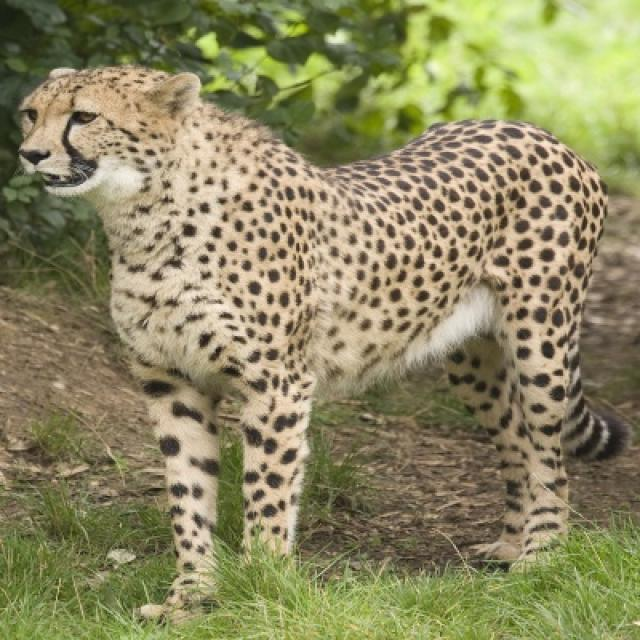Cheetah: (19, 66, 624, 616)
